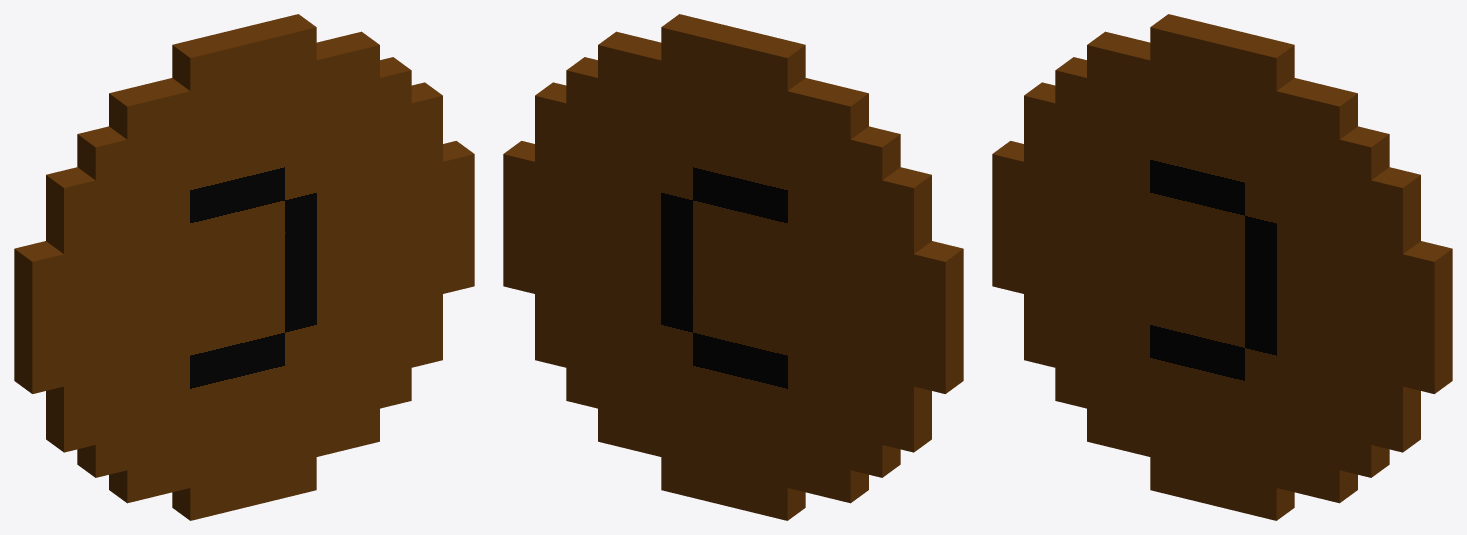
Rendered from Coin1.obj.
3 renders of one model, left to right at view 1: azimuth 30°, elevation 25°; view 2: azimuth 150°, elevation 25°; view 3: azimuth 330°, elevation 25°, orthographic.
Parts seen in each view (by area): view 1: Model; view 2: Model; view 3: Model.
Boxes of the visible parts, x1=… form: Model: x1=14, y1=14, x2=474, y2=520; Model: x1=503, y1=14, x2=963, y2=520; Model: x1=992, y1=14, x2=1452, y2=520.
Bounding box in the file's own units: 32 × 32 × 2.29.
Materials: 1 (1 with a texture image).
